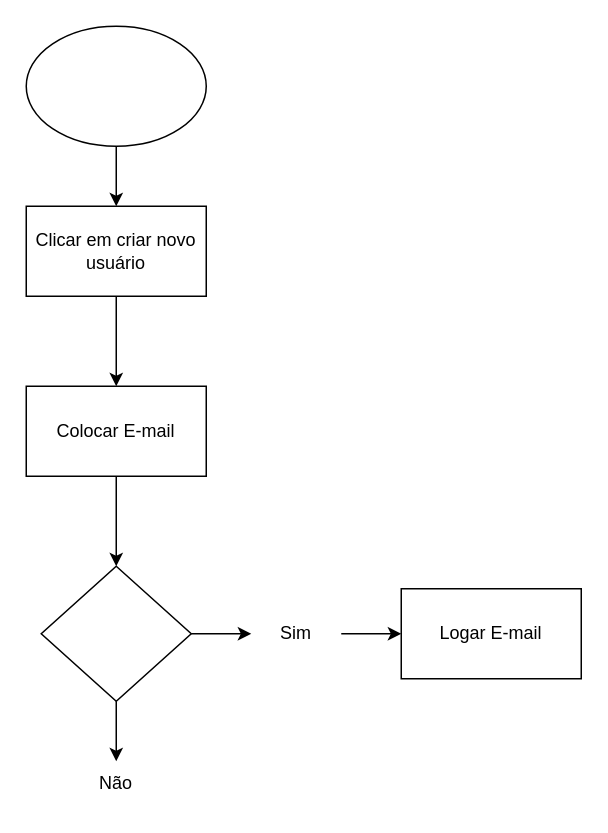
Some shapes in this 608 by 833 pixel diagram are drawn without their labels. Each missing label, with the centre of its shape:
E-mail já cadastrado?: the point at 115,633
Entrar no app: the point at 115,85
